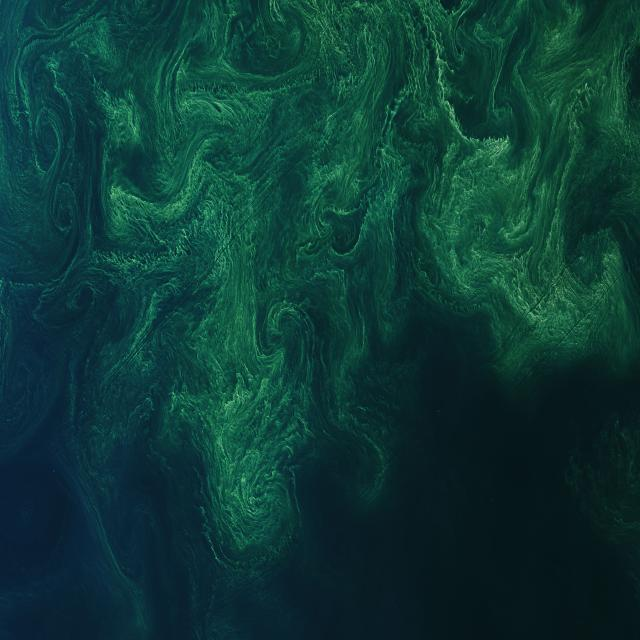algal: (43, 96, 347, 463), (173, 255, 312, 519), (298, 199, 416, 472), (437, 139, 561, 297), (511, 257, 639, 395), (511, 258, 639, 395), (563, 28, 632, 192), (117, 122, 202, 209), (481, 30, 532, 158), (88, 76, 121, 162), (379, 95, 409, 133), (242, 136, 290, 157), (94, 164, 116, 209), (248, 162, 273, 191), (432, 41, 448, 81)
